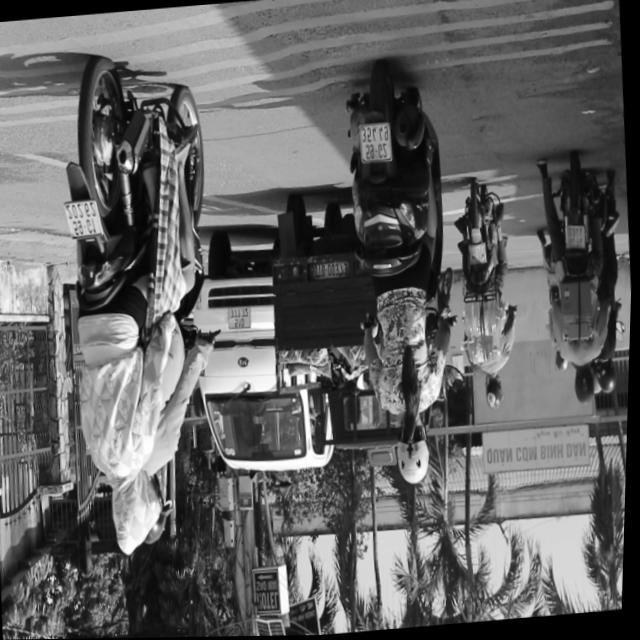helmet: (107, 470, 167, 558), (393, 413, 434, 488), (145, 471, 175, 548), (572, 368, 599, 410), (484, 378, 507, 415)
licenseplate: (43, 53, 242, 561), (324, 62, 474, 503), (528, 154, 635, 414), (444, 181, 526, 419)
nohelmet: (64, 202, 103, 239), (359, 125, 392, 164), (566, 230, 585, 253), (469, 247, 487, 268)
